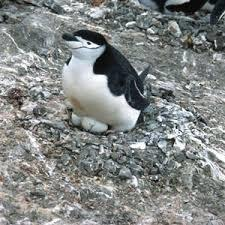chinstrap: (53, 16, 156, 159)
